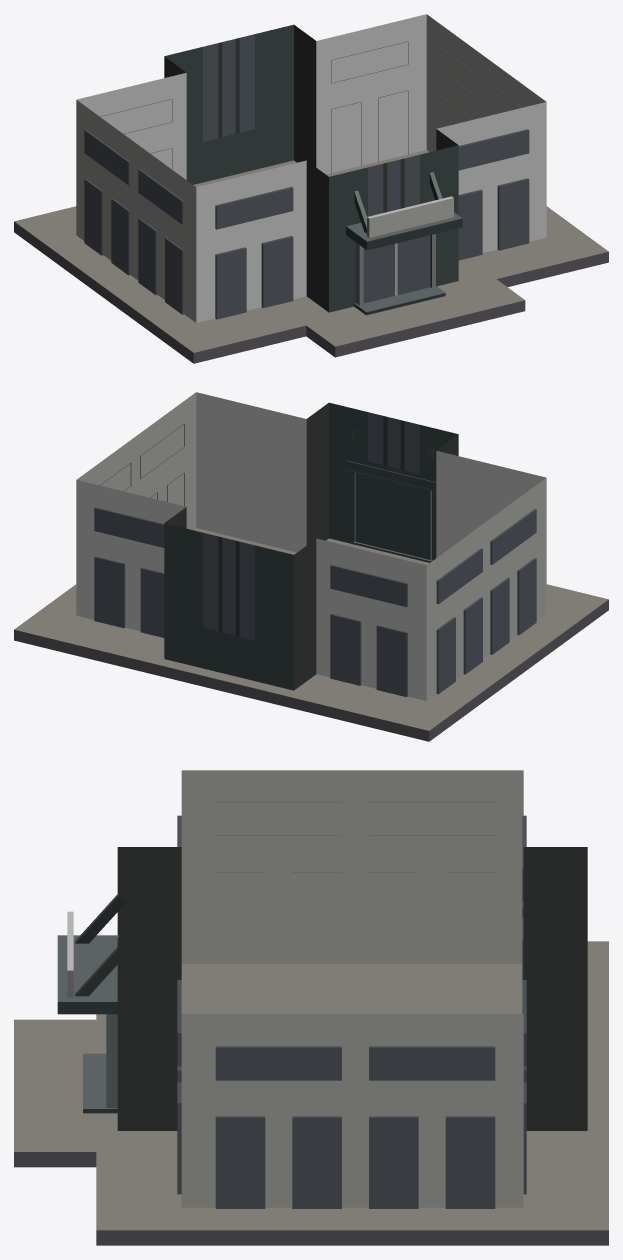
The model's file is TB_CITY_Skysc_G_Bottom_Gray.FBX.
The picture shows the model from 3 angles, top to bottom: view 1: azimuth 30°, elevation 25°; view 2: azimuth 150°, elevation 25°; view 3: azimuth 270°, elevation 25°; orthographic projection. The views are drawn at different scales.
Visible parts, largest first — view 1: TB_CITY_Skysc_G_Bottom_Gray; view 2: TB_CITY_Skysc_G_Bottom_Gray; view 3: TB_CITY_Skysc_G_Bottom_Gray.
Part boxes in pixels (box(x1,y1,x2,y2)): TB_CITY_Skysc_G_Bottom_Gray: box(14, 14, 608, 363); TB_CITY_Skysc_G_Bottom_Gray: box(14, 392, 608, 741); TB_CITY_Skysc_G_Bottom_Gray: box(14, 770, 608, 1245).
Bounding box in the file's own units: 32 × 10.8 × 27.86.
